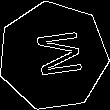M_W: (24, 30, 82, 82)
